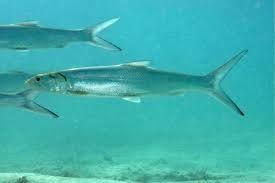Tenpounder: (25, 47, 251, 121)
